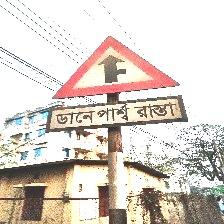Side-road-right: (49, 36, 187, 132)
